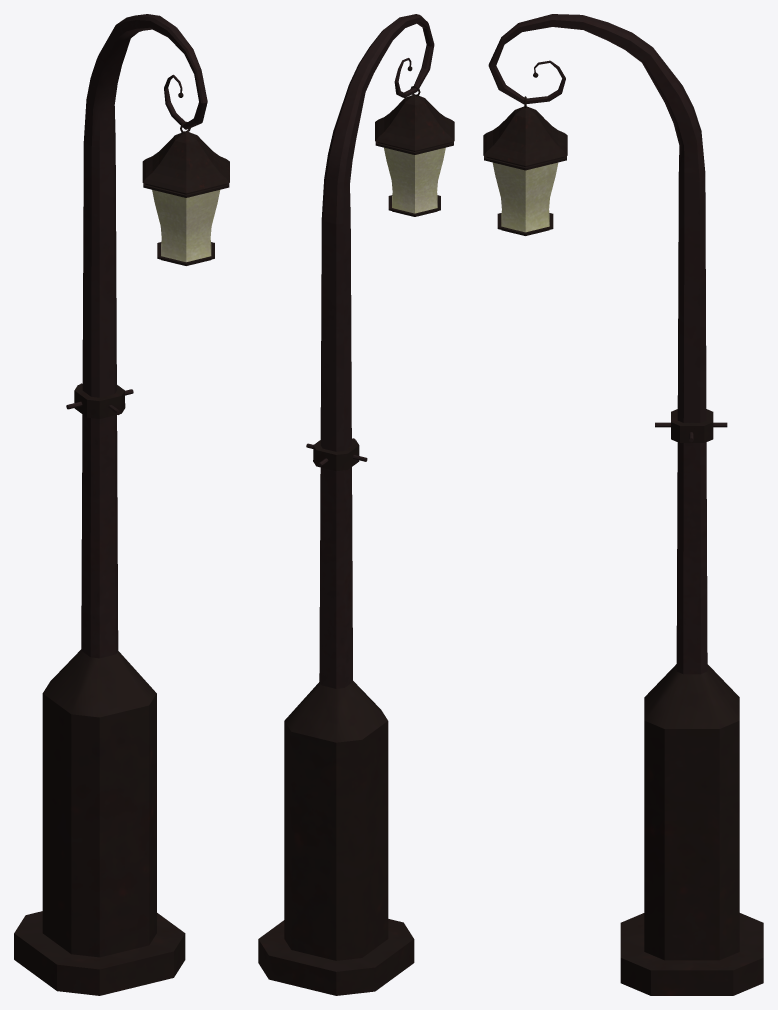
The model's file is lampost .fbx.
3 views of the same model, side by side, from view 1: azimuth 30°, elevation 25°; view 2: azimuth 150°, elevation 25°; view 3: azimuth 270°, elevation 25° (orthographic). The views are drawn at different scales.
Parts seen in each view (by area): view 1: polySurface9; view 2: polySurface9; view 3: polySurface9.
Part boxes in pixels (<box>): polySurface9: <box>14,14,229,995</box>; polySurface9: <box>258,14,454,995</box>; polySurface9: <box>483,14,763,995</box>.
Size of the model in its own units: 5.12 by 37.58 by 10.04.
